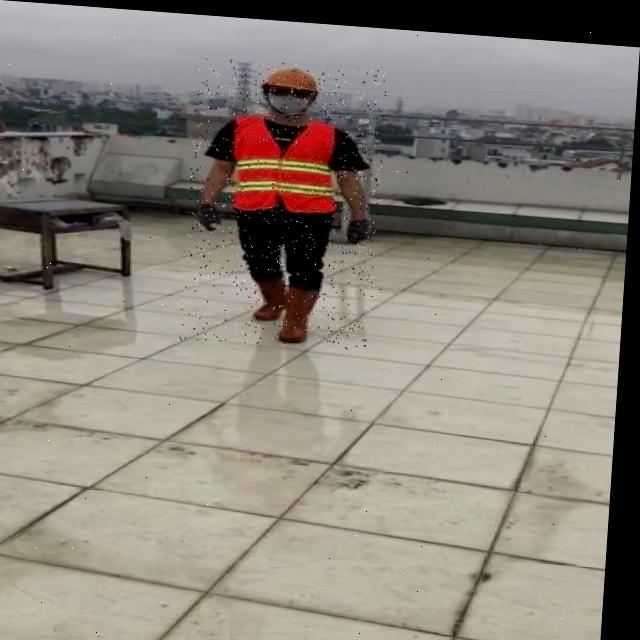Gloves: (350, 210, 378, 239), (199, 197, 225, 228)
Helmet: (261, 61, 323, 113)
Safety-Boot: (284, 279, 326, 339), (258, 270, 292, 318)
Safety-Vest: (230, 108, 345, 213)
